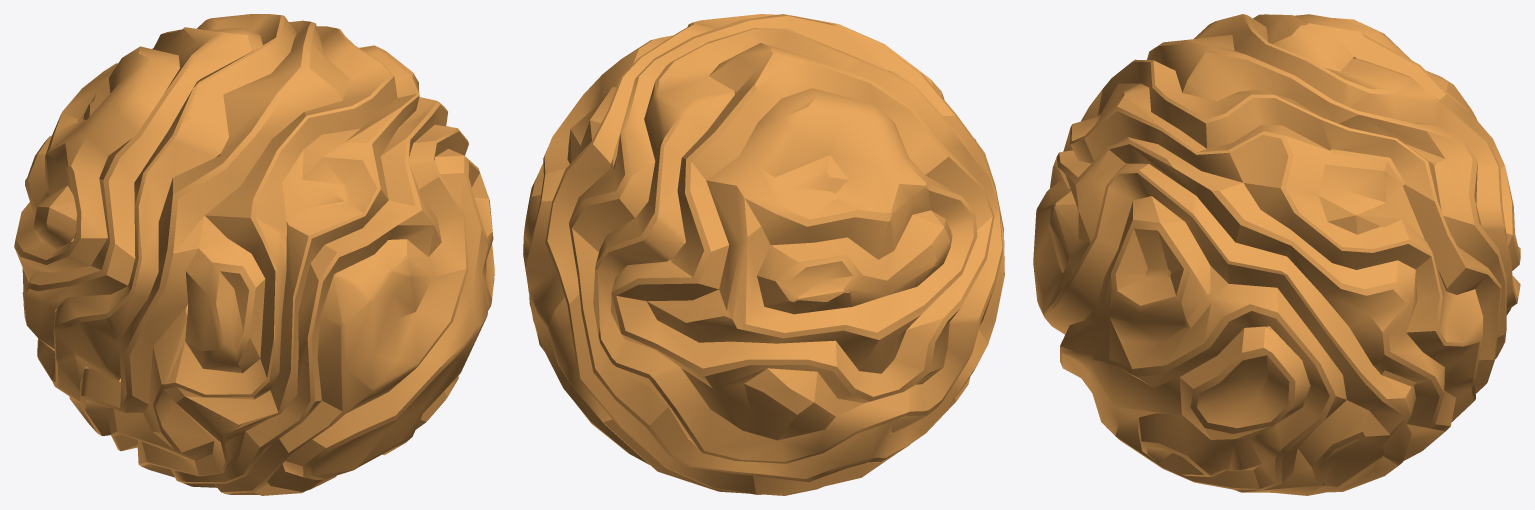
File: geo_core.fbx
3 renders of one model, left to right at view 1: azimuth 30°, elevation 25°; view 2: azimuth 150°, elevation 25°; view 3: azimuth 270°, elevation 25°, orthographic.
Parts seen in each view (by area): view 1: core.007, core.014, core.009, core.002, core.012, core.011, core.000, core.006, core.013, core.010, core.005, core.008; view 2: core.000, core.006, core.012, core.009, core.014, core.005, core.002, core.015, core.013; view 3: core.011, core.002, core.007, core.014, core.013, core.009, core.012, core.003, core.006, core.008, core.004, core.000.
Part boxes in pixels (<box>): core.007: <box>214,124,468,494</box>; core.014: <box>107,26,397,460</box>; core.009: <box>69,20,349,436</box>; core.002: <box>137,45,419,477</box>; core.012: <box>37,14,296,402</box>; core.011: <box>283,149,494,479</box>; core.000: <box>14,46,179,281</box>; core.006: <box>22,27,262,350</box>; core.013: <box>171,97,447,487</box>; core.010: <box>185,216,265,373</box>; core.005: <box>25,135,76,248</box>; core.008: <box>254,464,336,495</box>; core.000: <box>647,88,977,373</box>; core.006: <box>611,43,994,403</box>; core.012: <box>593,28,1002,463</box>; core.009: <box>569,14,1004,482</box>; core.014: <box>545,14,970,494</box>; core.005: <box>757,210,951,314</box>; core.002: <box>526,35,950,495</box>; core.015: <box>681,368,863,440</box>; core.013: <box>523,163,891,464</box>; core.011: <box>1060,196,1346,490</box>; core.002: <box>1063,83,1484,421</box>; core.007: <box>1033,163,1415,492</box>; core.014: <box>1081,59,1501,393</box>; core.013: <box>1050,137,1455,461</box>; core.009: <box>1147,35,1506,372</box>; core.012: <box>1194,14,1520,315</box>; core.003: <box>1179,326,1310,439</box>; core.006: <box>1253,14,1520,270</box>; core.008: <box>1232,400,1390,495</box>; core.004: <box>1138,413,1261,476</box>; core.000: <box>1294,14,1477,120</box>.
Size of the model in its own units: 1003 by 1006 by 1005.
